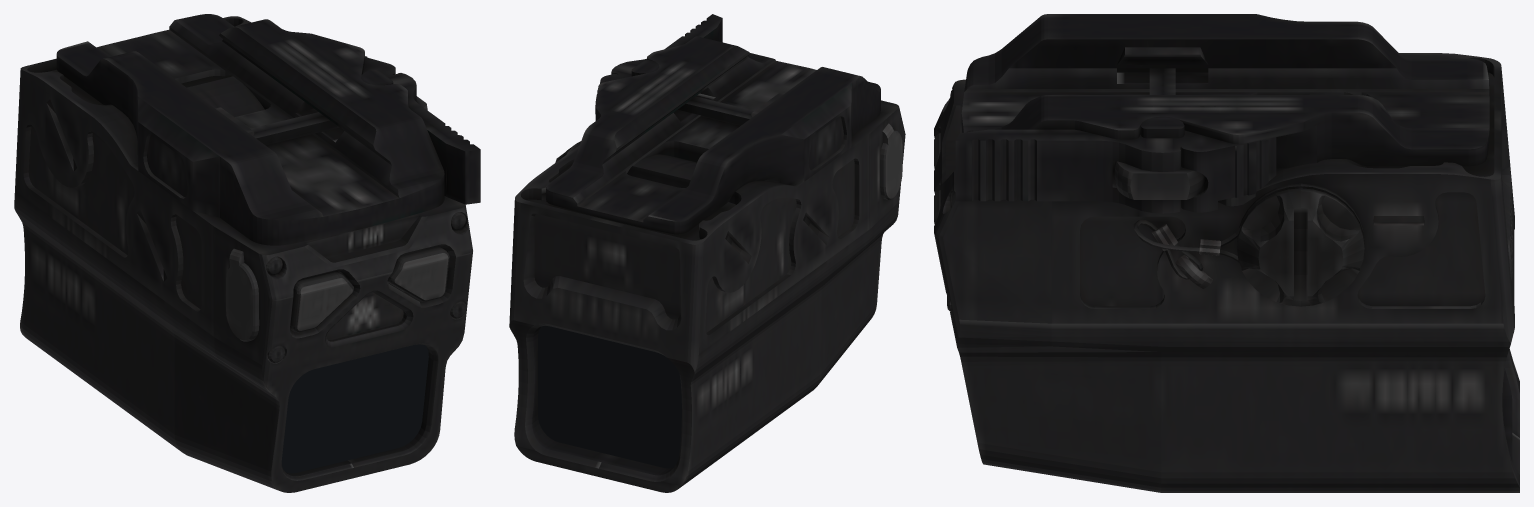
The picture shows the model from 3 angles, left to right: view 1: azimuth 30°, elevation 25°; view 2: azimuth 150°, elevation 25°; view 3: azimuth 270°, elevation 25°; orthographic projection. The views are drawn at different scales.
Parts seen in each view (by area): view 1: TW_59f9d81586f7744c7506ee62_PZ_Import; view 2: TW_59f9d81586f7744c7506ee62_PZ_Import; view 3: TW_59f9d81586f7744c7506ee62_PZ_Import.
Boxes of the visible parts, <box> form: TW_59f9d81586f7744c7506ee62_PZ_Import: <box>14,14,480,492</box>; TW_59f9d81586f7744c7506ee62_PZ_Import: <box>509,14,905,492</box>; TW_59f9d81586f7744c7506ee62_PZ_Import: <box>934,14,1519,492</box>.
Size of the model in its own units: 0.0307 by 0.0544 by 0.0391.
Materials: 1 (1 with a texture image).
